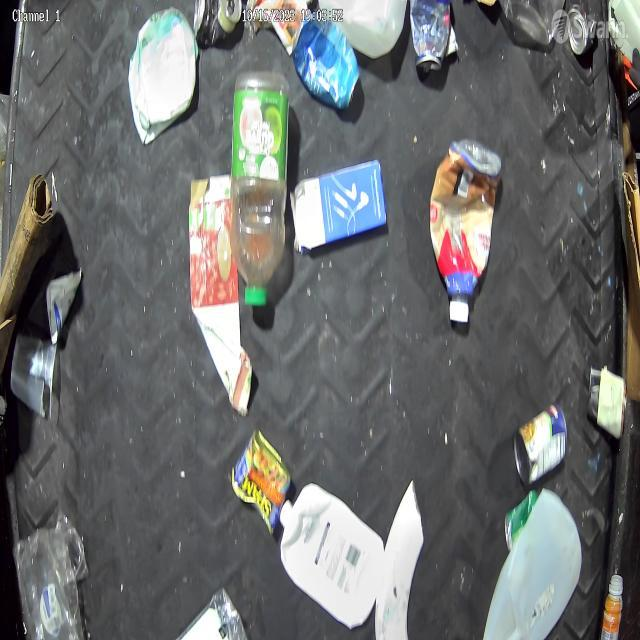can: (290, 14, 362, 111), (230, 428, 292, 538), (514, 402, 568, 487), (409, 0, 452, 72), (194, 0, 242, 47), (504, 490, 538, 551), (566, 3, 590, 56)
milk_jug: (279, 482, 388, 630), (483, 489, 582, 640), (128, 10, 200, 144), (319, 0, 408, 59)
non_white_jug: (292, 159, 387, 255)
plastic_bottle: (230, 70, 290, 309)
